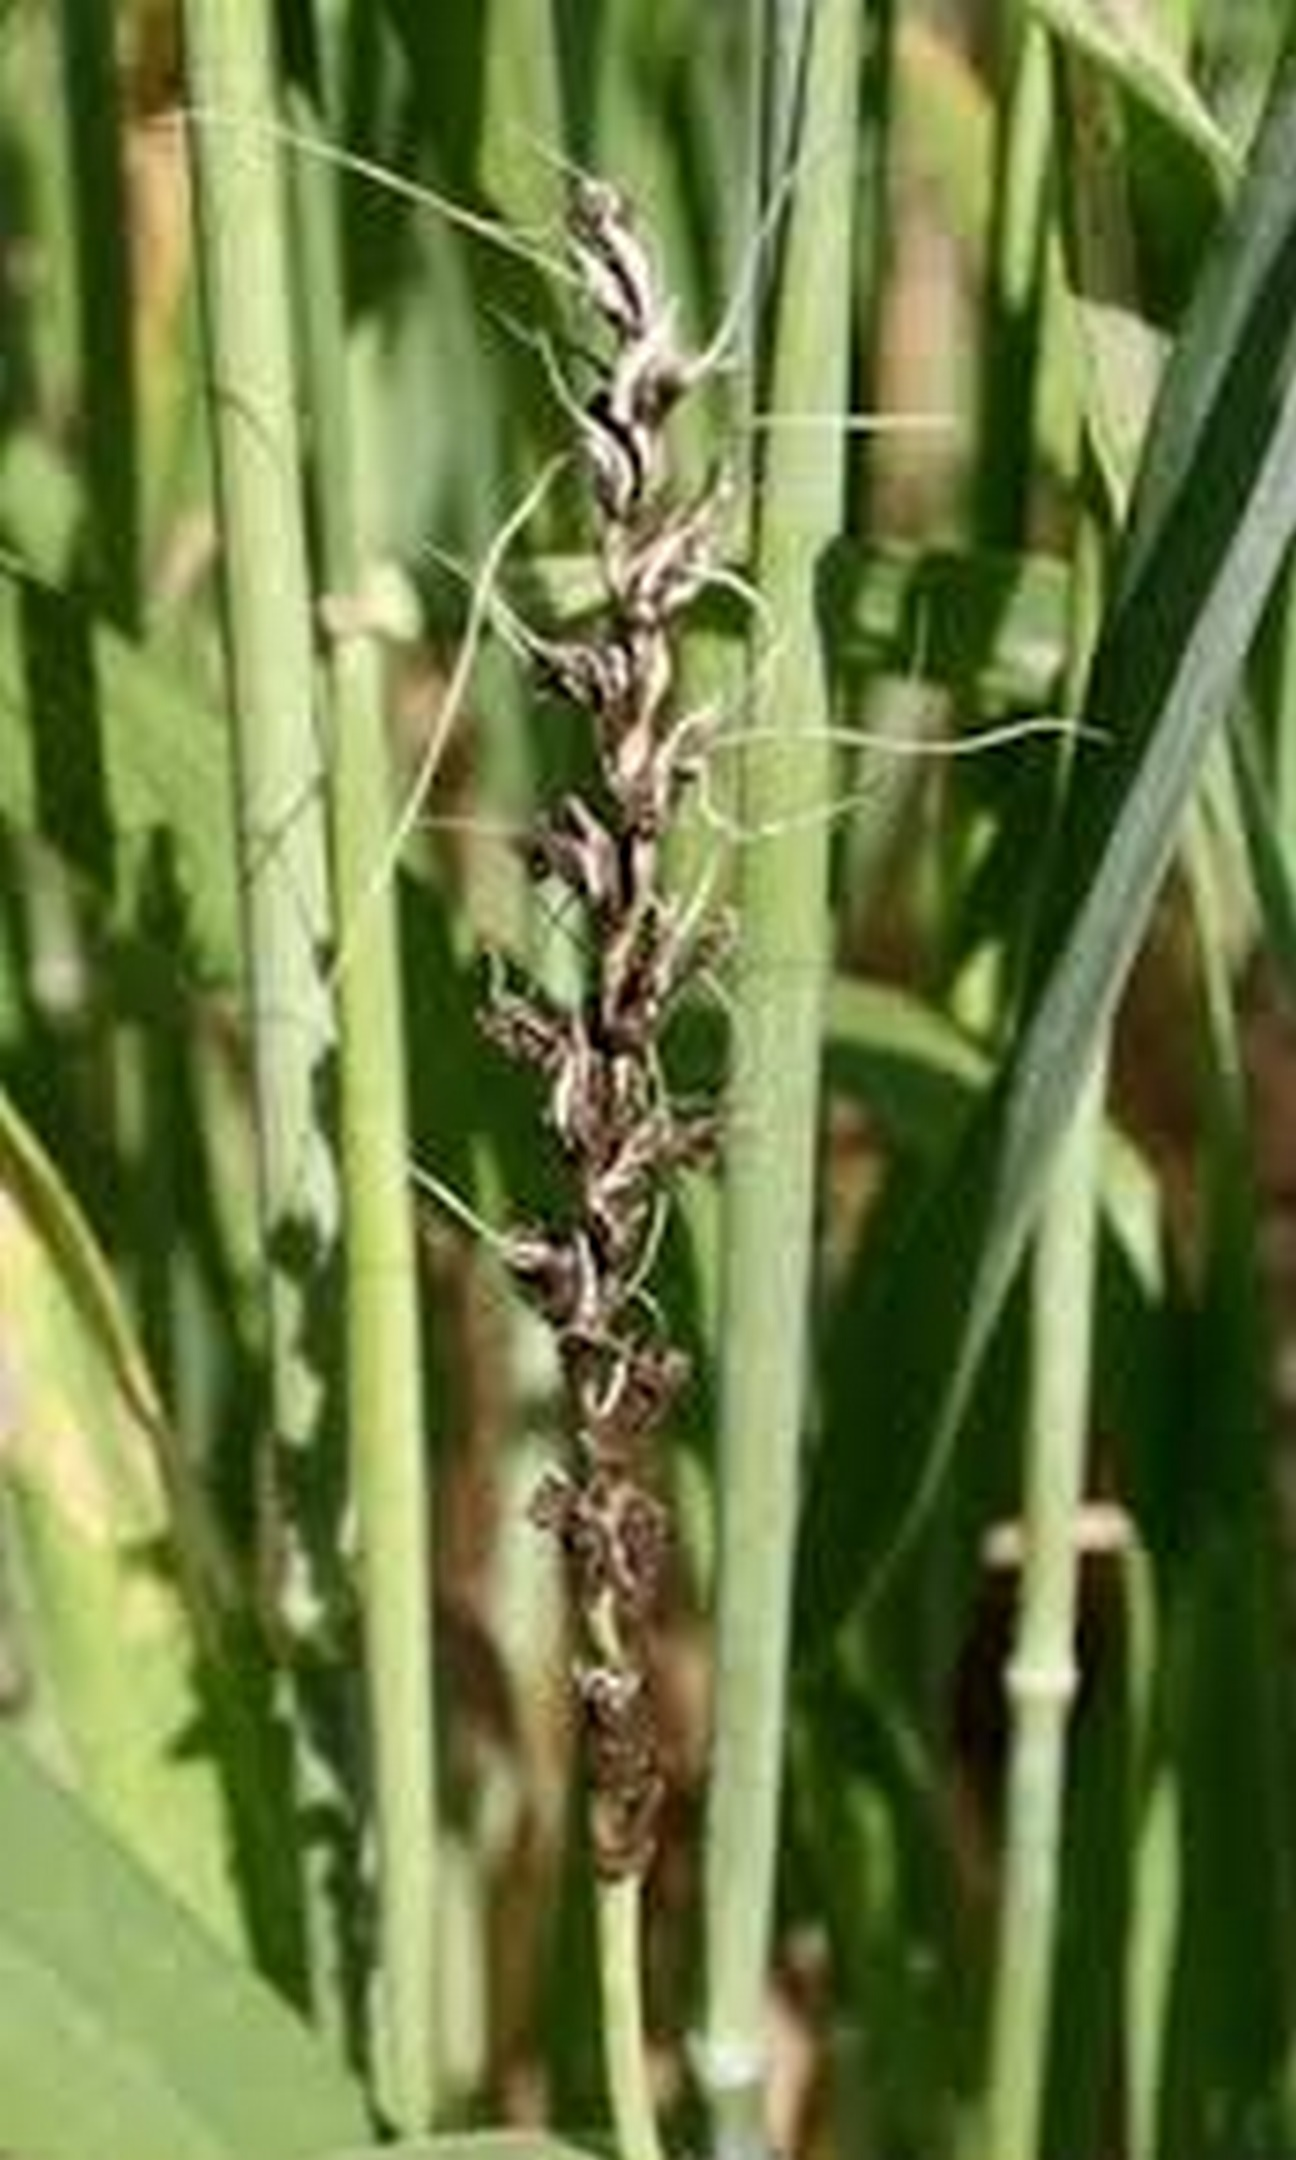Wheat Loose Smut: (384, 389, 838, 1603)
